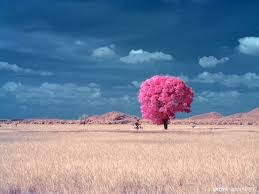field: (1, 121, 259, 192)
sky: (2, 1, 259, 117)
tree: (139, 71, 192, 133)
